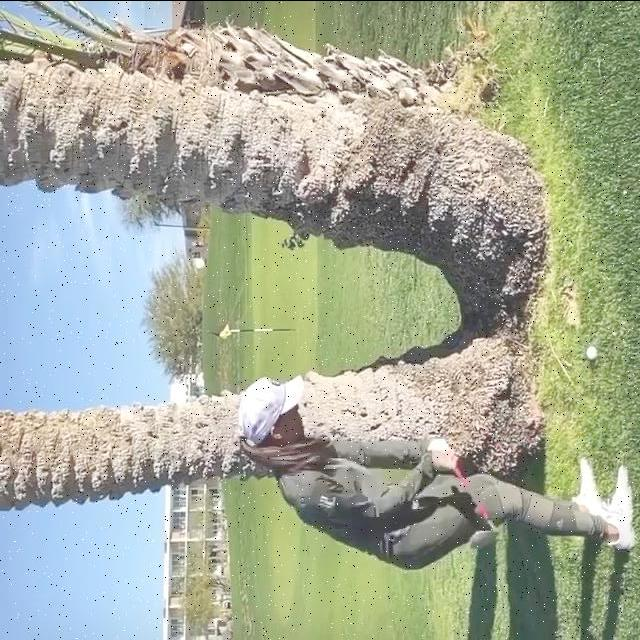ClubHandle: (442, 458, 506, 546)
ClubHead: (471, 521, 501, 544)
GolfBall: (583, 341, 600, 358)
